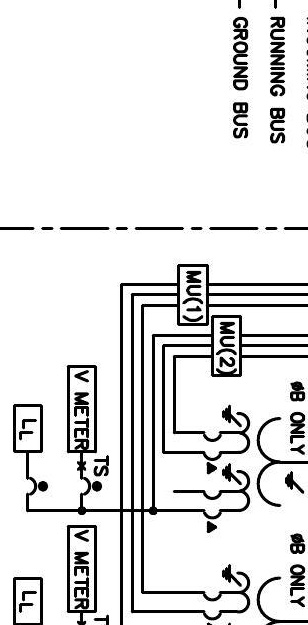115_vt_1p: (202, 404, 304, 534)
LL: (12, 403, 44, 454)
MU: (176, 263, 210, 327), (210, 314, 243, 378)
v_m_digital: (66, 364, 98, 454), (66, 524, 98, 614)
